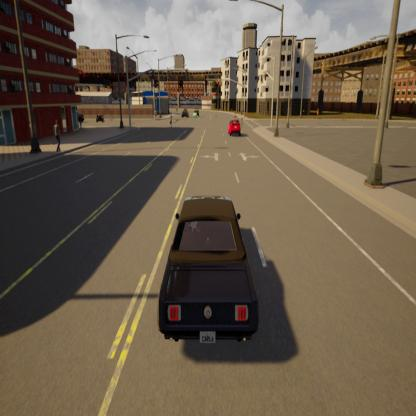Cars: (160, 192, 258, 362), (228, 118, 241, 140)
Pedestrian: (52, 116, 62, 154), (168, 107, 173, 133)
